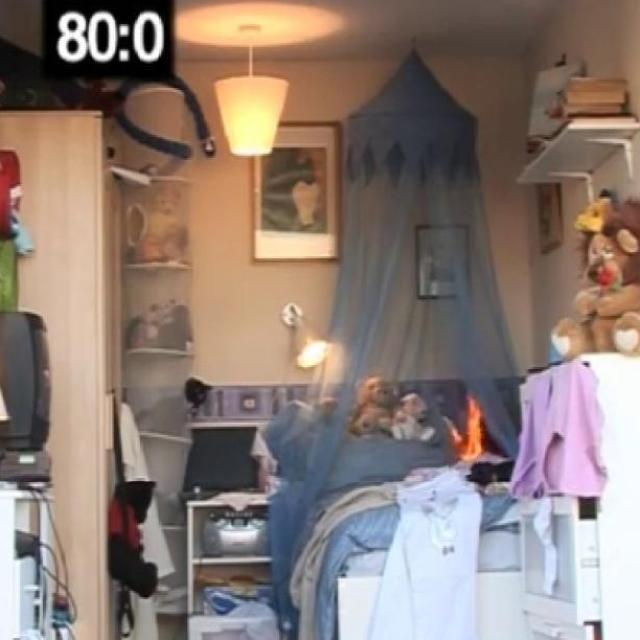smoke: (446, 390, 486, 464)
